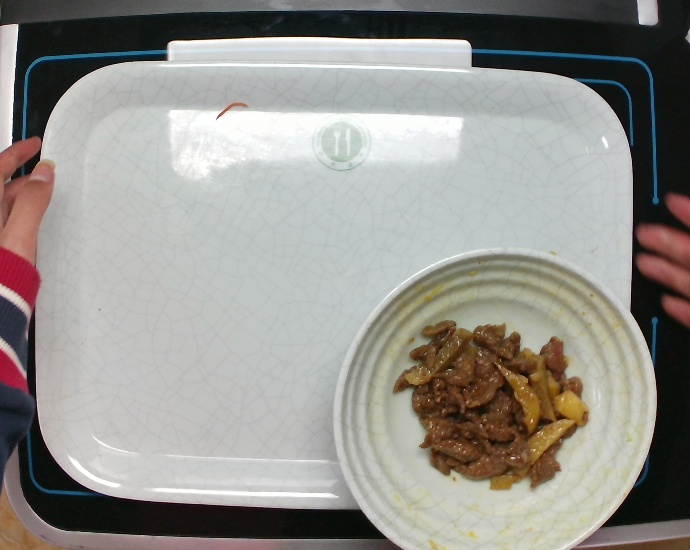JYsf-Da_Tang_Wan: (331, 243, 657, 550)
